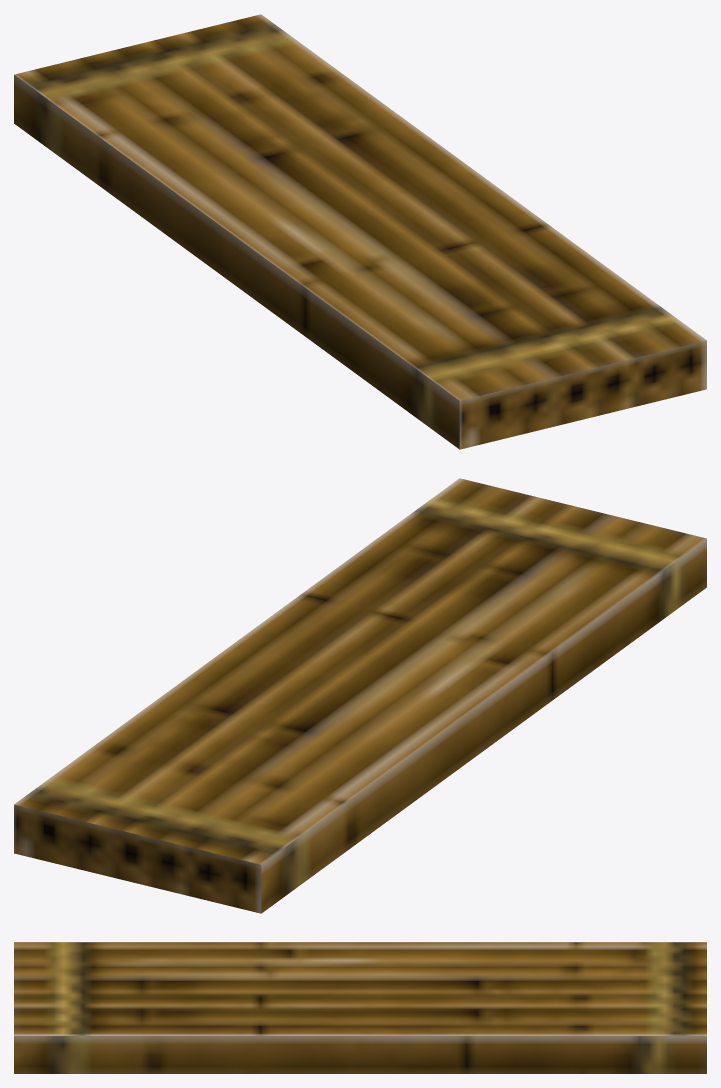
Rendered from raft_fish_01.dae.
3 renders of one model, top to bottom at view 1: azimuth 30°, elevation 25°; view 2: azimuth 150°, elevation 25°; view 3: azimuth 270°, elevation 25°, orthographic. The views are drawn at different scales.
Visible parts, largest first — view 1: raft_fish; view 2: raft_fish; view 3: raft_fish.
Part boxes in pixels (x1=…): raft_fish: x1=14, y1=14, x2=706, y2=449; raft_fish: x1=14, y1=478, x2=706, y2=913; raft_fish: x1=14, y1=942, x2=706, y2=1073.
Bounding box in the file's own units: 2.51 × 7.83 × 0.4742.
